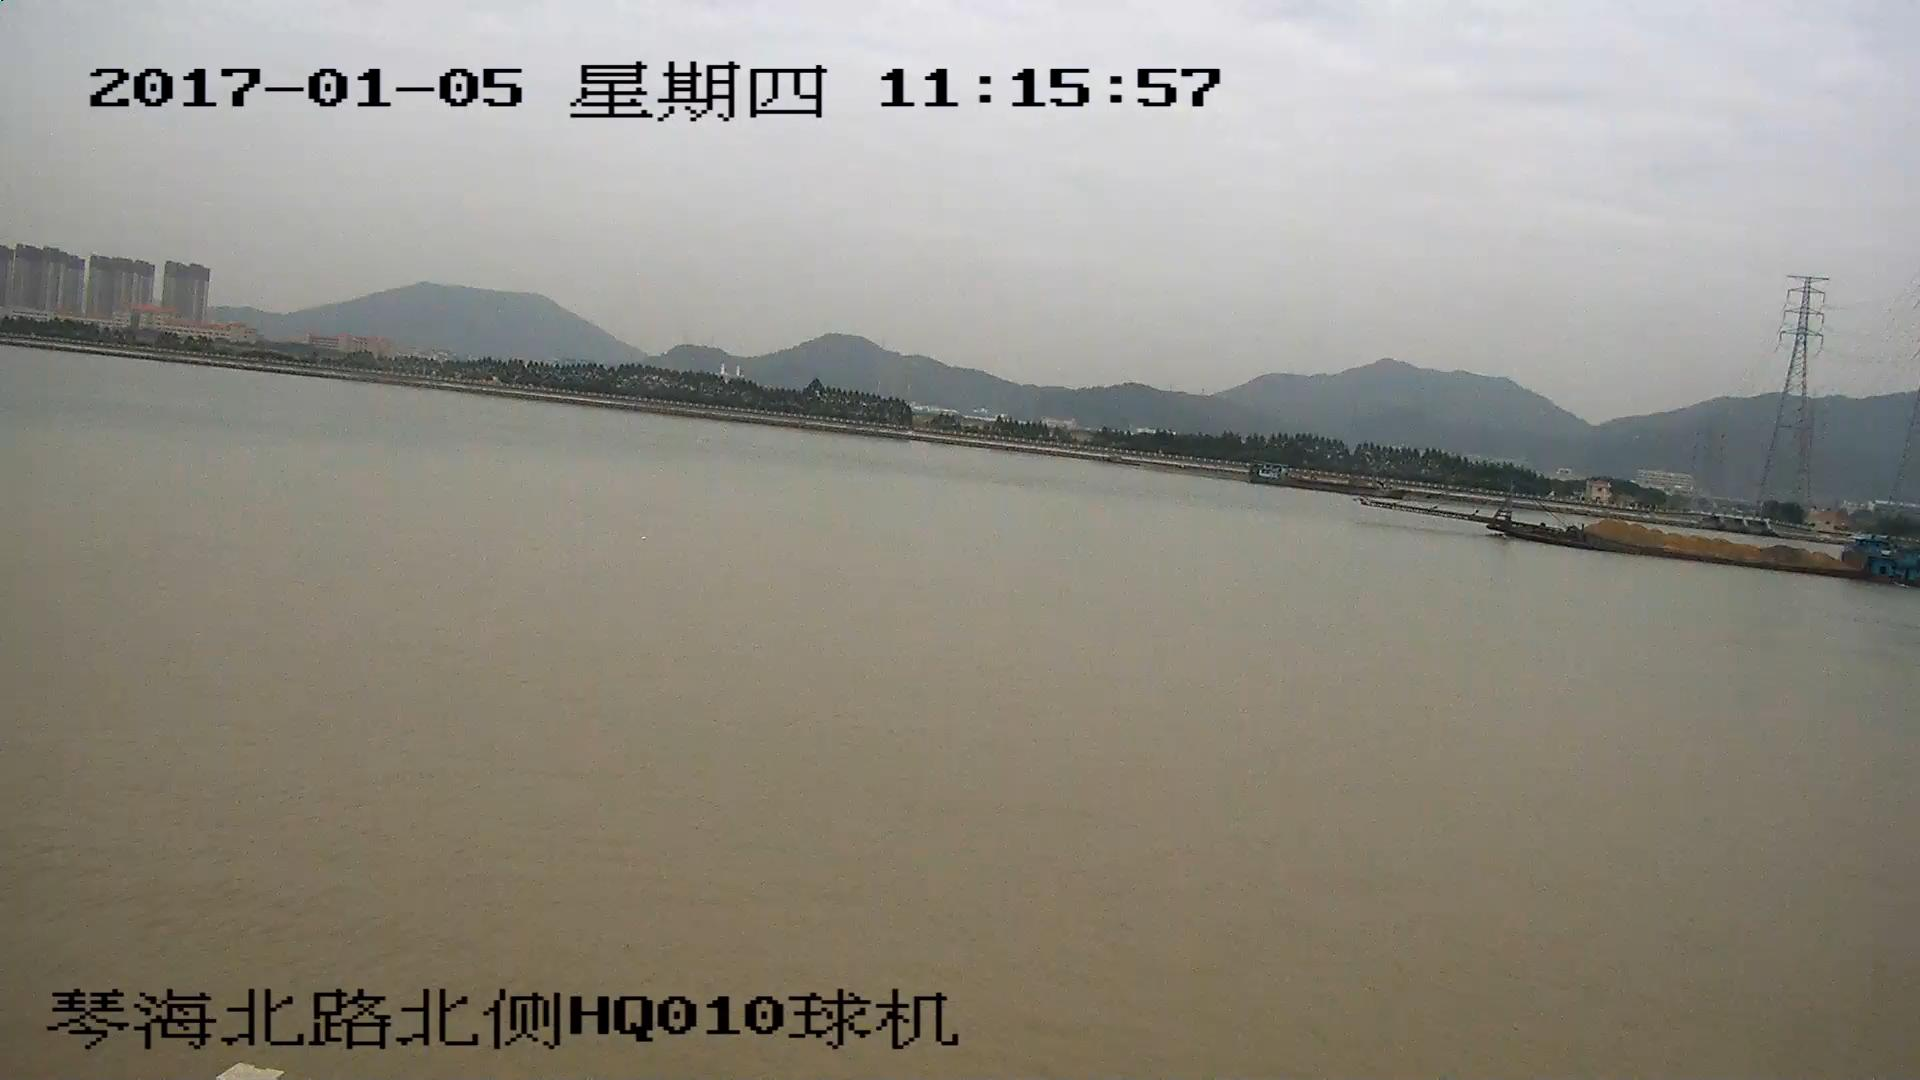ore carrier: (1370, 490, 1920, 579)
